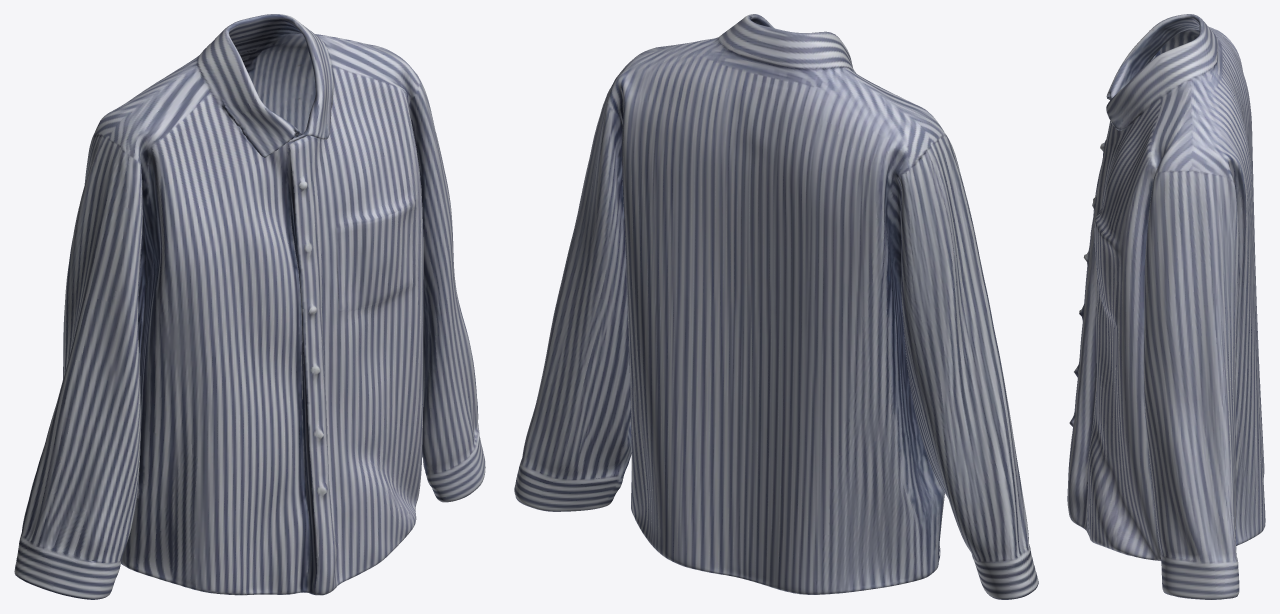
The model's file is striped shirt 3d model.glb.
3 renders of one model, left to right at view 1: azimuth 30°, elevation 25°; view 2: azimuth 150°, elevation 25°; view 3: azimuth 270°, elevation 25°, orthographic. The views are drawn at different scales.
Visible parts, largest first — view 1: tripo_node_efc4a057; view 2: tripo_node_efc4a057; view 3: tripo_node_efc4a057.
Part boxes in pixels (left/top/right/bottom): tripo_node_efc4a057: left=14, top=14, right=485, bottom=599; tripo_node_efc4a057: left=514, top=14, right=1038, bottom=599; tripo_node_efc4a057: left=1067, top=14, right=1265, bottom=599.
Size of the model in its own units: 93.49 by 97.81 by 35.76.
Materials: 1 (1 with a texture image).
